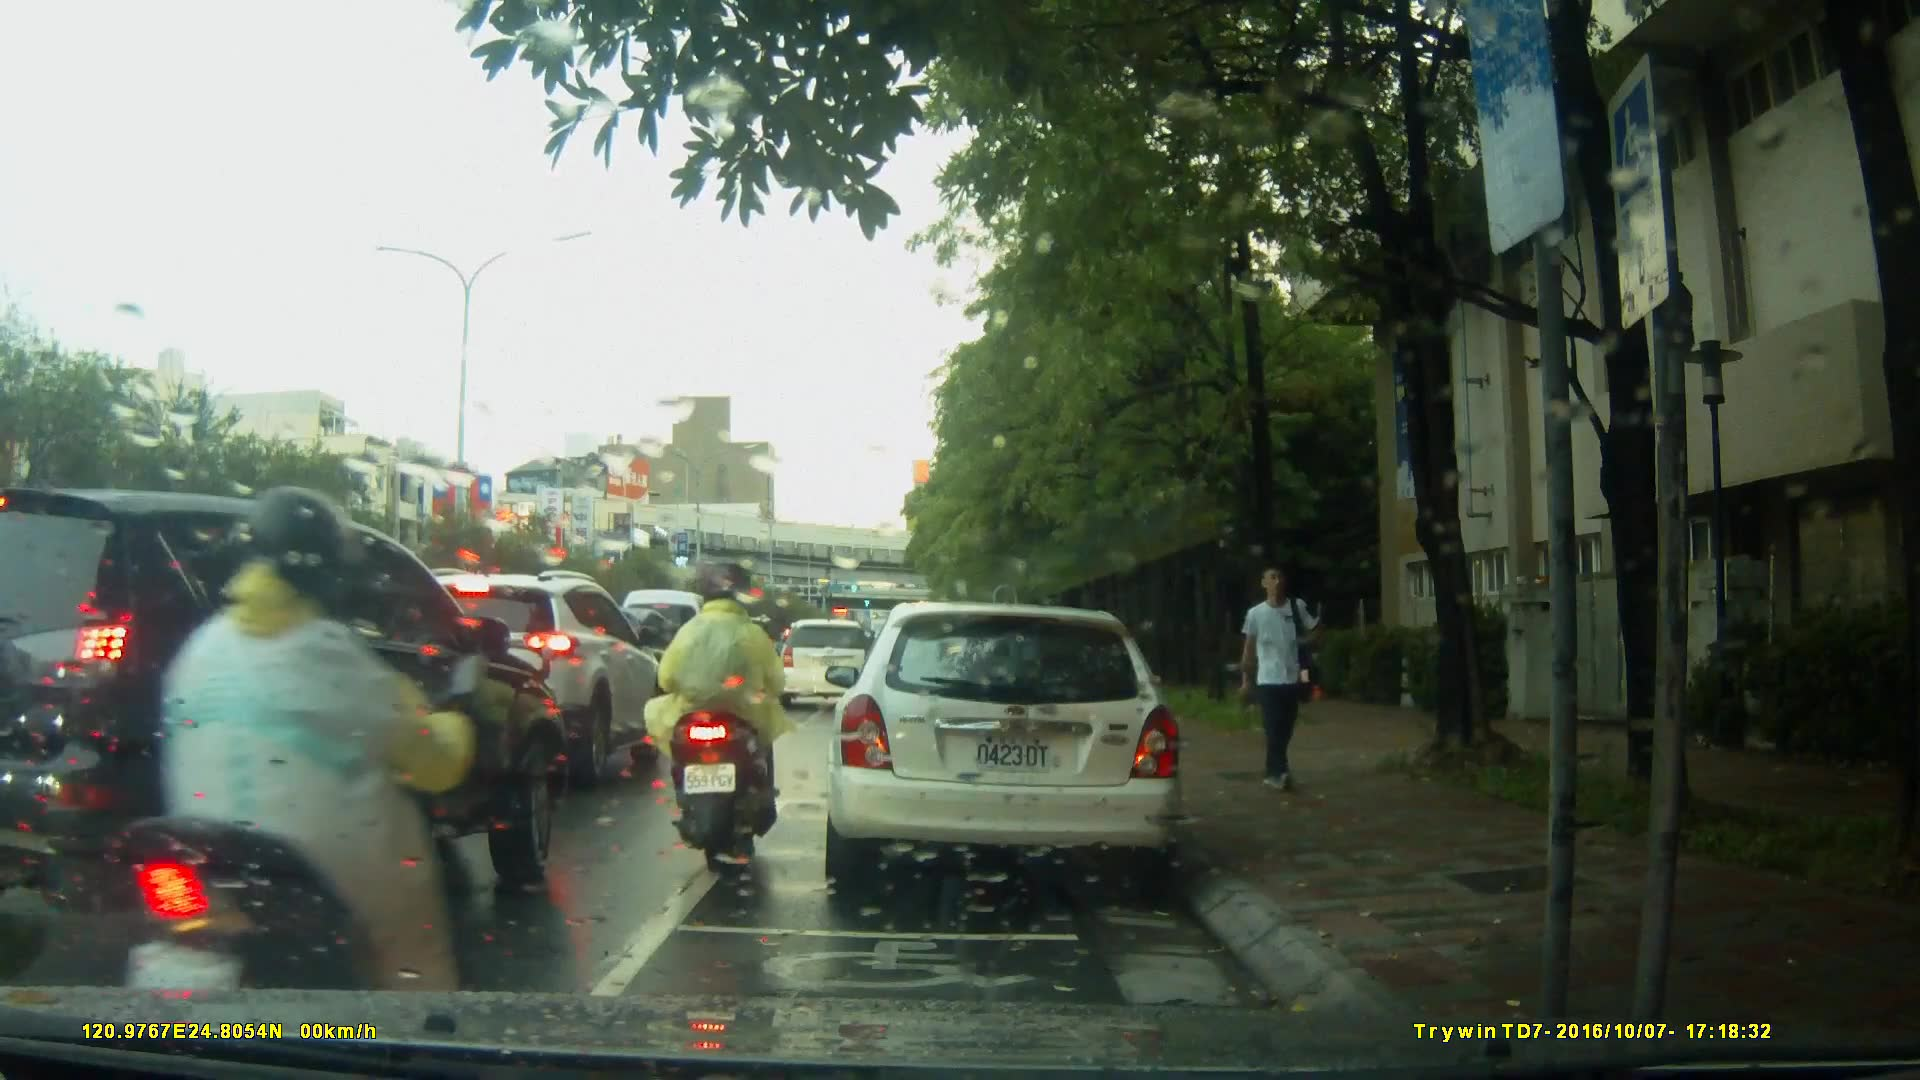pedestrian: (1228, 558, 1327, 804)
rider: (114, 493, 476, 1043), (659, 558, 800, 873)
vehicle: (1, 481, 574, 970), (820, 602, 1188, 898), (363, 567, 670, 783), (613, 588, 732, 717), (771, 617, 880, 710)
